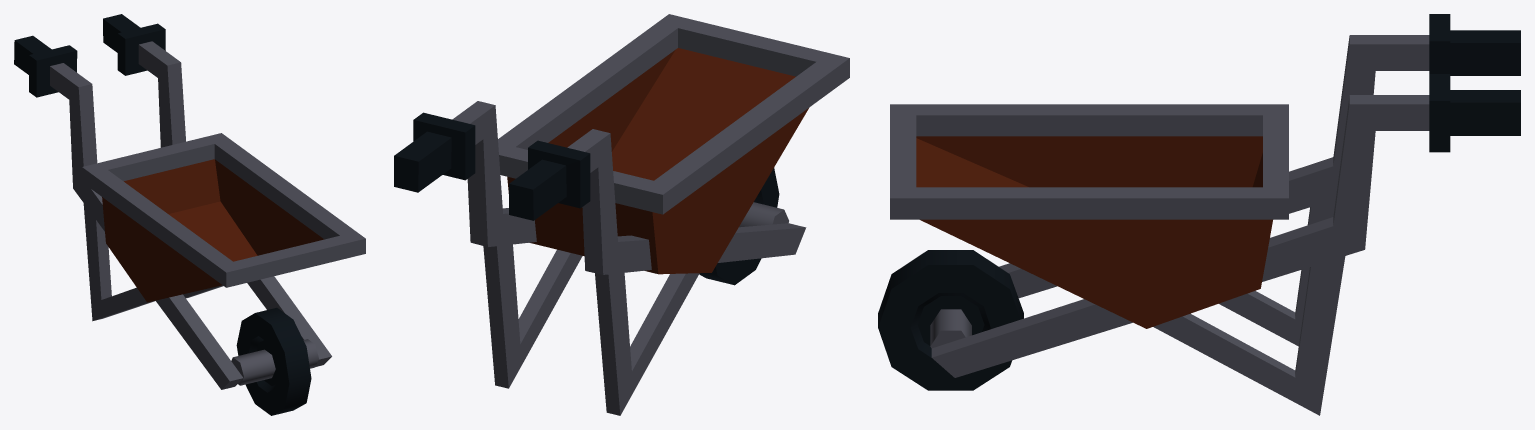
File: Barrow.fbx
3 views of the same model, side by side, from view 1: azimuth 30°, elevation 25°; view 2: azimuth 150°, elevation 25°; view 3: azimuth 270°, elevation 25° (orthographic). The views are drawn at different scales.
Parts seen in each view (by area): view 1: Barrow; view 2: Barrow; view 3: Barrow.
Boxes of the visible parts, <box> form: Barrow: <box>14,14,365,415</box>; Barrow: <box>394,14,849,415</box>; Barrow: <box>878,14,1520,415</box>.
Size of the model in its own units: 30.29 by 48.89 by 87.43.
